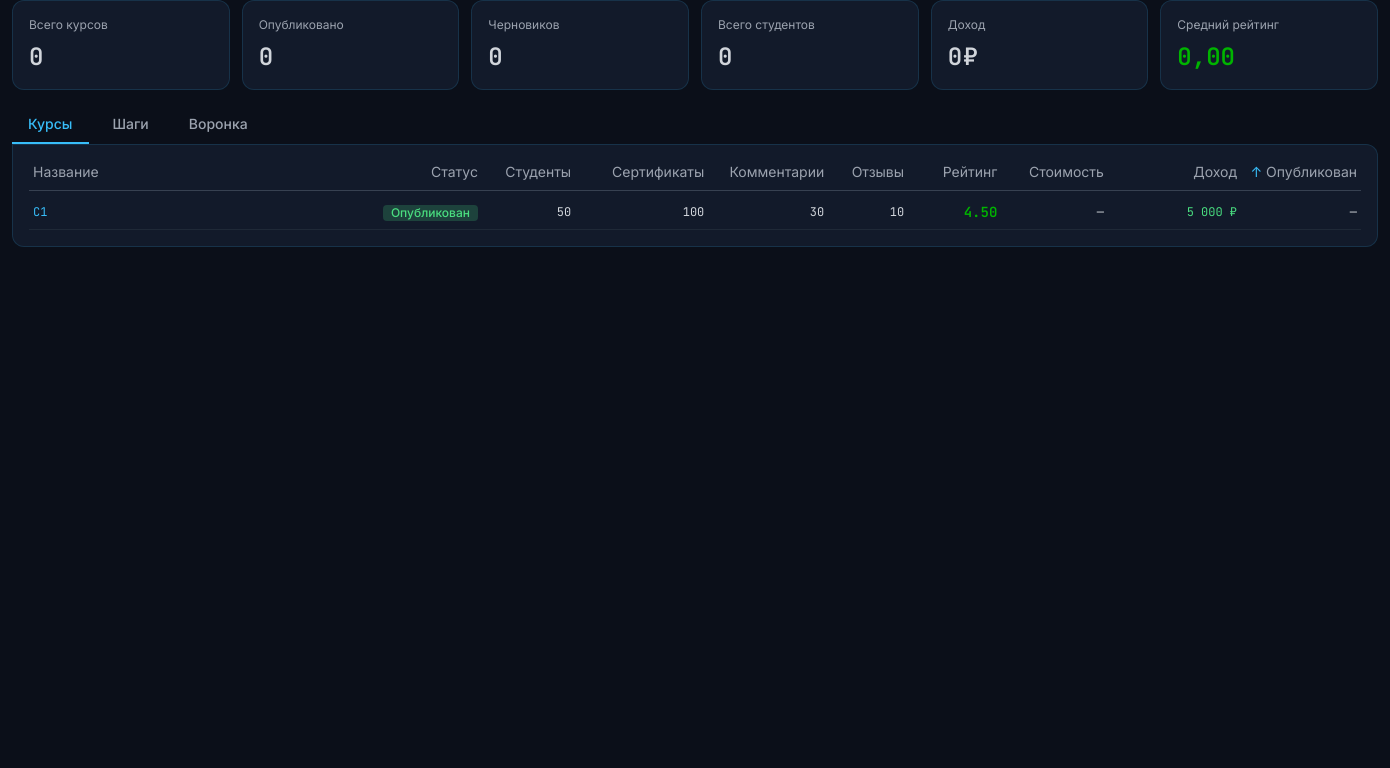
Test: Courses › switches funnel view to lessons
Click the button "Воронка": (218, 125) [173,106,264,144]
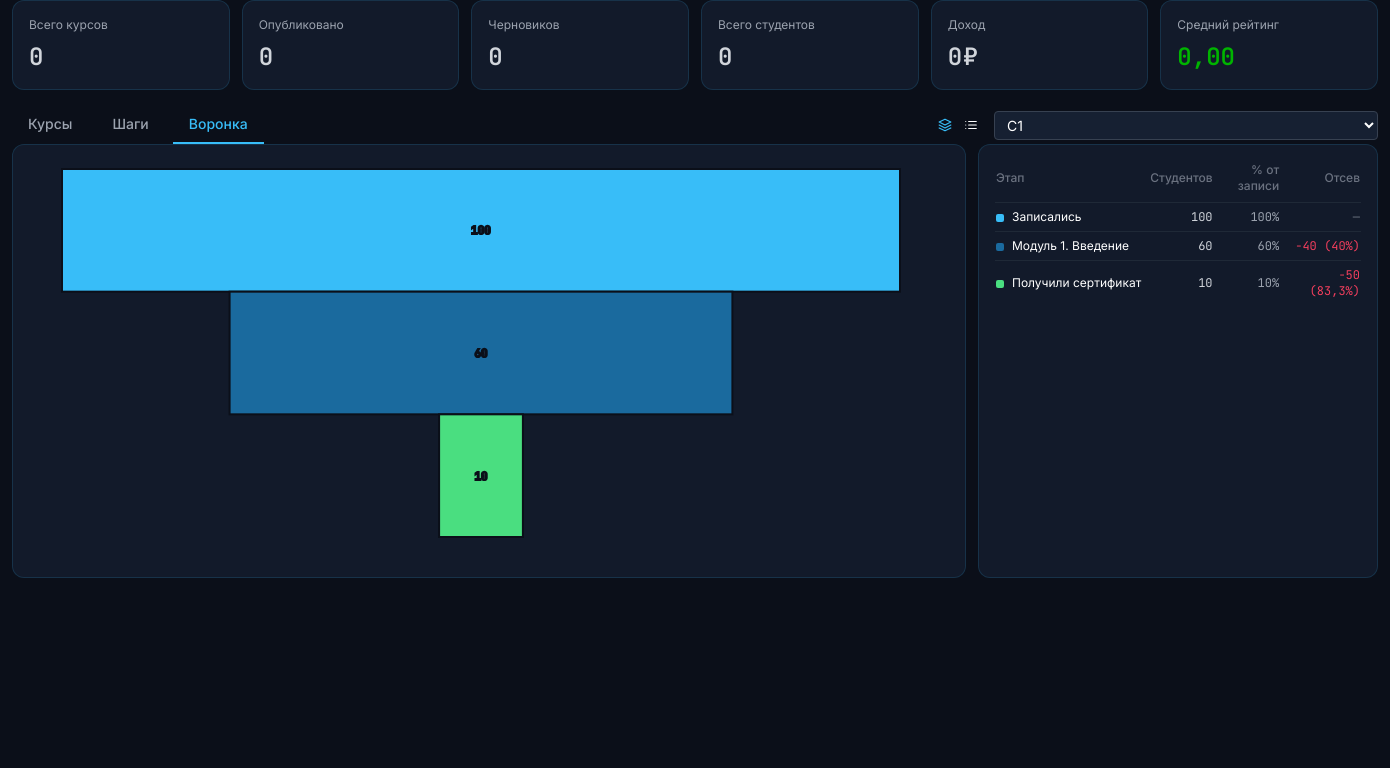
Expected: the text "Модуль 1. Введение" is shown, [995,232,1149,260]
Click the button named "Уроки": (971, 125) [960,114,982,136]
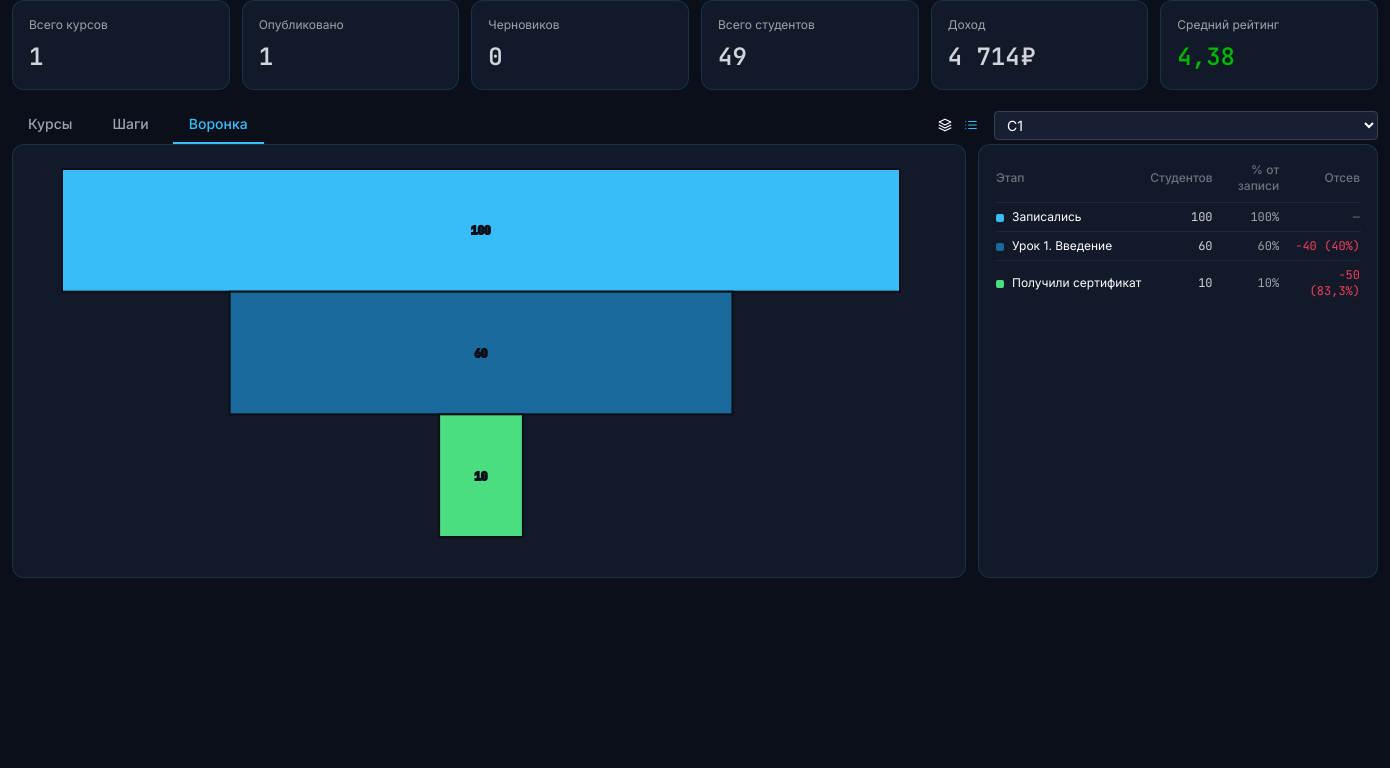
Expected: the text "Урок 1. Введение" is shown, [995,232,1149,260]
